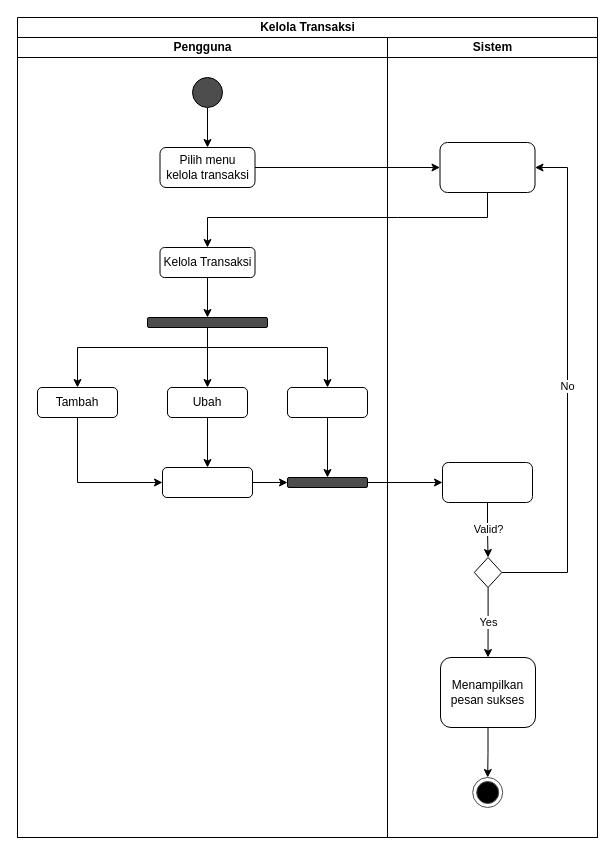
This 615x855 diagram has some shape labels left out. The centre of each missing label's shape, as x and y in pixels:
"Hapus" goes at point 327,402.
"Input Data" goes at point 207,482.
"Menampilkan Halaman kelola transaksi" goes at point 487,167.
"Proses Data" goes at point 487,482.
